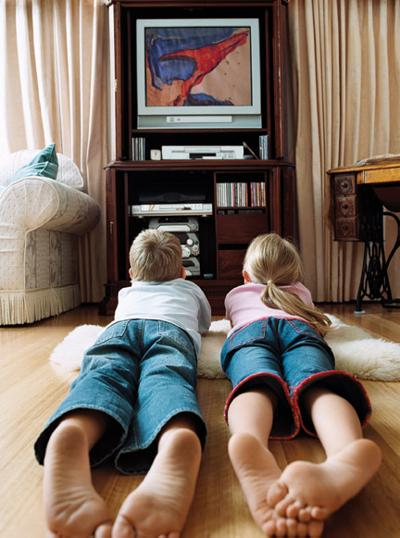person: (36, 226, 210, 537)
